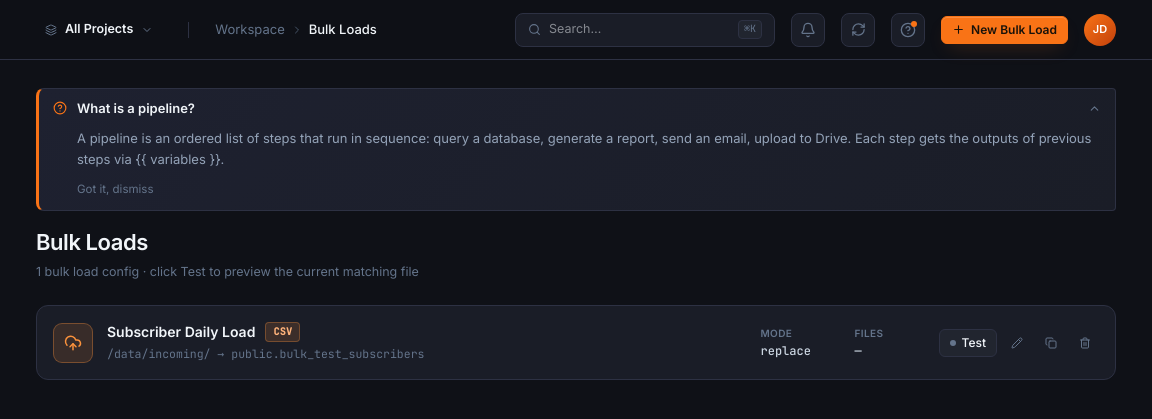
Test case: BulkLoads › shows a Failed badge and the error message when the Test request rejects
The image size is (1152, 419).
Expected: the text "Subscriber Daily Load" is shown, [107,322,255,342]
Click the button "Test".
click(968, 343)  # box [938,329,997,357]
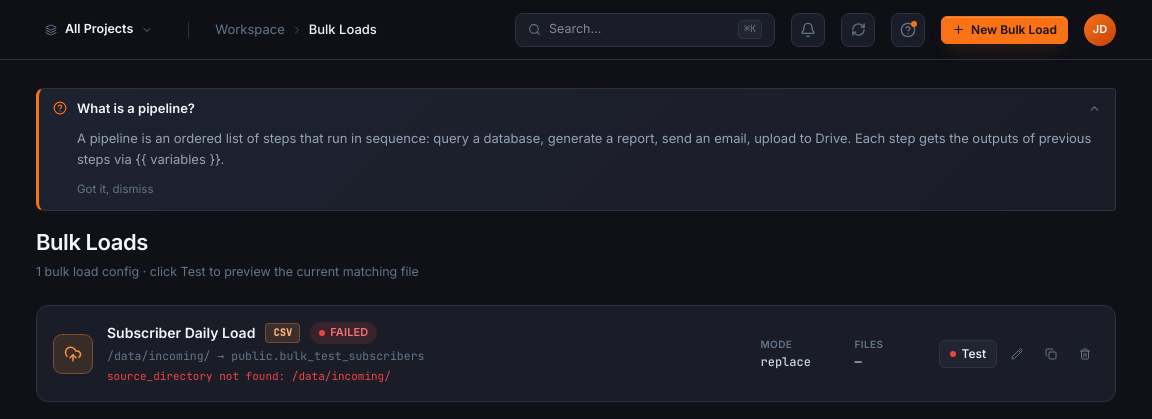
Now the text "Failed" is shown, box [310,322,377,344]
Now the text "source_directory not found: /data/incoming/" is shown, box [107,369,391,383]
